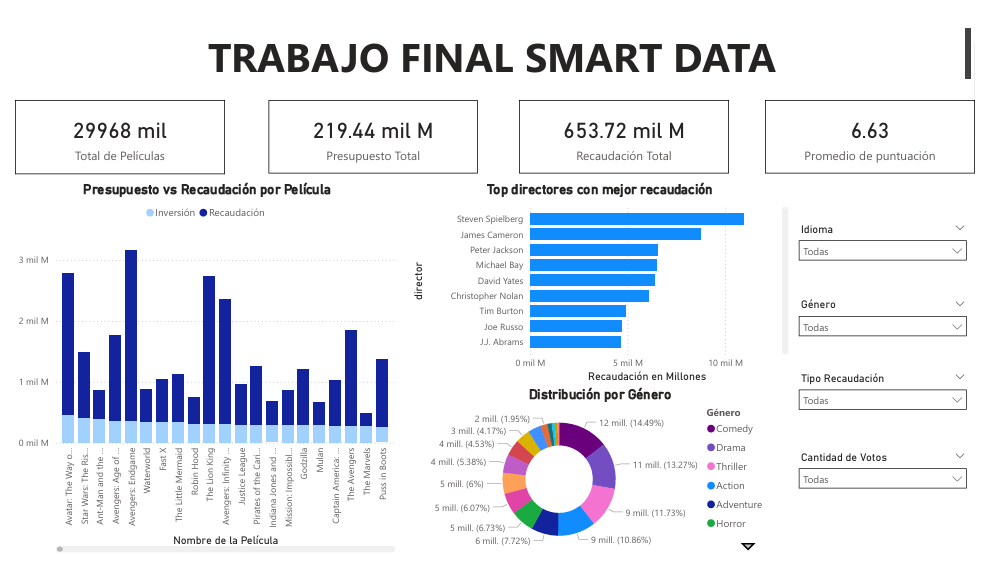

The page's visual inventory and layout, read from the dashboard file:
{"tool":"powerbi","page":{"name":"Página 1","canvas":[1280,720],"ordinal":0},"visuals":[{"type":"card","fields":{"Values":["golden_movies.id"]},"box":[0,112,279.9,98.8],"z":0},{"type":"card","fields":{"Values":["golden_movies.budget_usd"]},"box":[337.6,111.7,279.9,98.8],"z":1000},{"type":"card","fields":{"Values":["golden_movies.revenue_usd"]},"box":[672.4,111.7,279.9,98.8],"z":2000},{"type":"card","fields":{"Values":["golden_movies.user_score"]},"box":[1000.3,111.7,279.9,98.8],"z":3000},{"type":"textbox","box":[0,12.3,1280.3,78.2],"z":4000},{"type":"barChart","title":"Top directores con mejor recaudación","fields":{"Category":["golden_movies.director"],"Y":["golden_movies.revenue_usd"]},"box":[524.2,220.9,511.8,273.1],"z":4001},{"type":"columnChart","title":"Presupuesto vs Recaudación por Película","fields":{"Y":["golden_movies.budget_usd","golden_movies.revenue_usd"],"Category":["golden_movies.title"]},"box":[0,220.9,511.8,499.5],"z":4002},{"type":"donutChart","title":"Distribución por Género","fields":{"Category":["genres_movies.Genre"],"Y":["genres_movies.id"]},"box":[524.2,494,511.8,226.4],"z":4003},{"type":"slicer","fields":{"Values":["golden_movies.language"]},"box":[1035,271.2,243.8,65.9],"z":4005},{"type":"slicer","fields":{"Values":["genres_movies.Genre"]},"box":[1035,371.9,243.8,64.7],"z":4006},{"type":"slicer","fields":{"Values":["golden_movies.revenue_type"]},"box":[1035,470.2,243.8,65.9],"z":4007},{"type":"slicer","fields":{"Values":["golden_movies.vote_category"]},"box":[1035,574.7,243.8,65.9],"z":4008}]}

Visuals, with their boxes in screenshot pixels (x1, y1, x2, y2), scaled from the page's 1280x720 canvas onto the 990x570 screenshot:
card - golden_movies.id: box(0, 89, 216, 167)
card - golden_movies.budget_usd: box(261, 88, 478, 167)
card - golden_movies.revenue_usd: box(520, 88, 737, 167)
card - golden_movies.user_score: box(774, 88, 989, 167)
textbox: box(0, 10, 989, 72)
"Top directores con mejor recaudación" barChart: box(405, 175, 801, 391)
"Presupuesto vs Recaudación por Película" columnChart: box(0, 175, 396, 569)
"Distribución por Género" donutChart: box(405, 391, 801, 569)
slicer - golden_movies.language: box(801, 215, 989, 267)
slicer - genres_movies.Genre: box(801, 294, 989, 346)
slicer - golden_movies.revenue_type: box(801, 372, 989, 424)
slicer - golden_movies.vote_category: box(801, 455, 989, 507)
